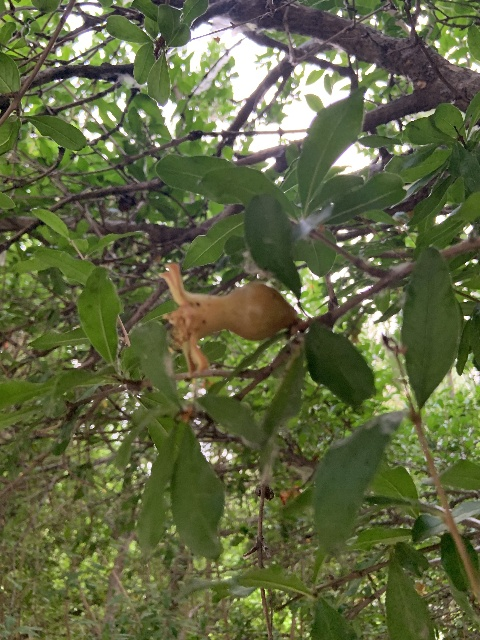early-fruit: (159, 263, 297, 377)
